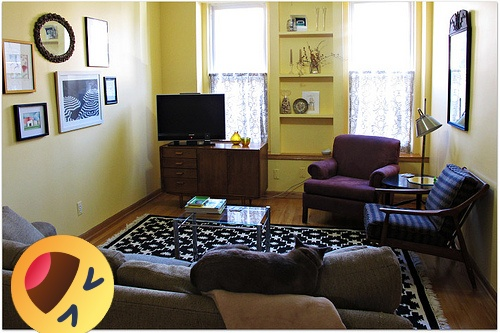haha: (11, 235, 114, 333)
